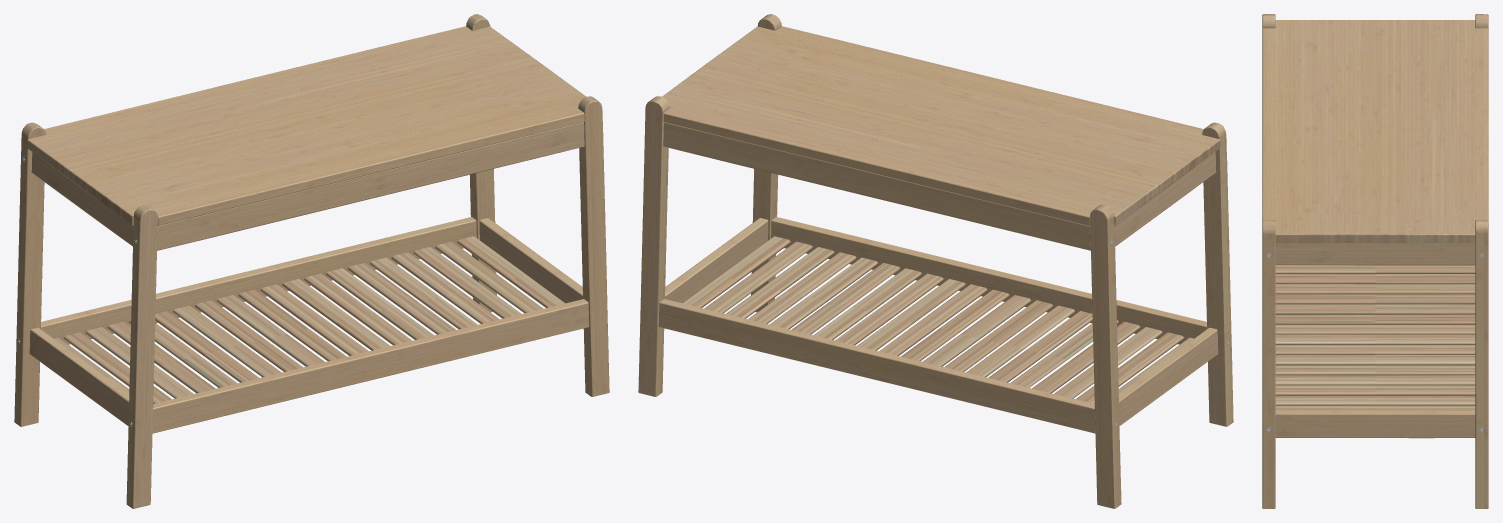
The model's file is stegesund_awka_60632019.glb.
The picture shows the model from 3 angles, left to right: view 1: azimuth 30°, elevation 25°; view 2: azimuth 150°, elevation 25°; view 3: azimuth 270°, elevation 25°; orthographic projection. The views are drawn at different scales.
Parts seen in each view (by area): view 1: stegesund_awka_60632019; view 2: stegesund_awka_60632019; view 3: stegesund_awka_60632019.
Part boxes in pixels (x1,y1,x2,y2): stegesund_awka_60632019: (14, 14, 609, 508); stegesund_awka_60632019: (638, 14, 1233, 508); stegesund_awka_60632019: (1262, 14, 1488, 508).
Bounding box in the file's own units: 0.7857 × 0.4679 × 0.34.
1 material, 1 textured.
